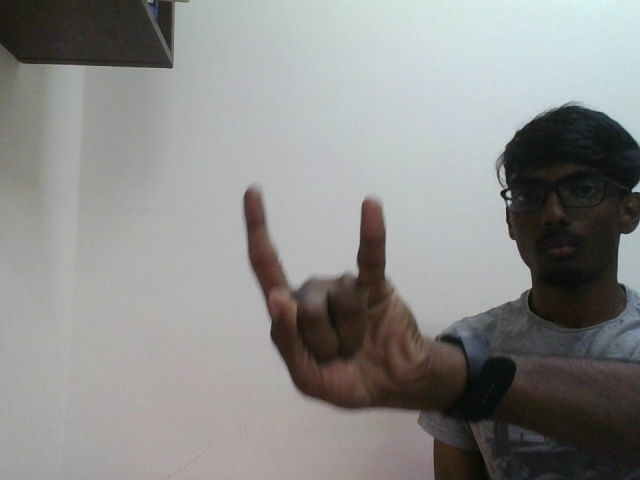I Love You: (243, 183, 391, 409)
